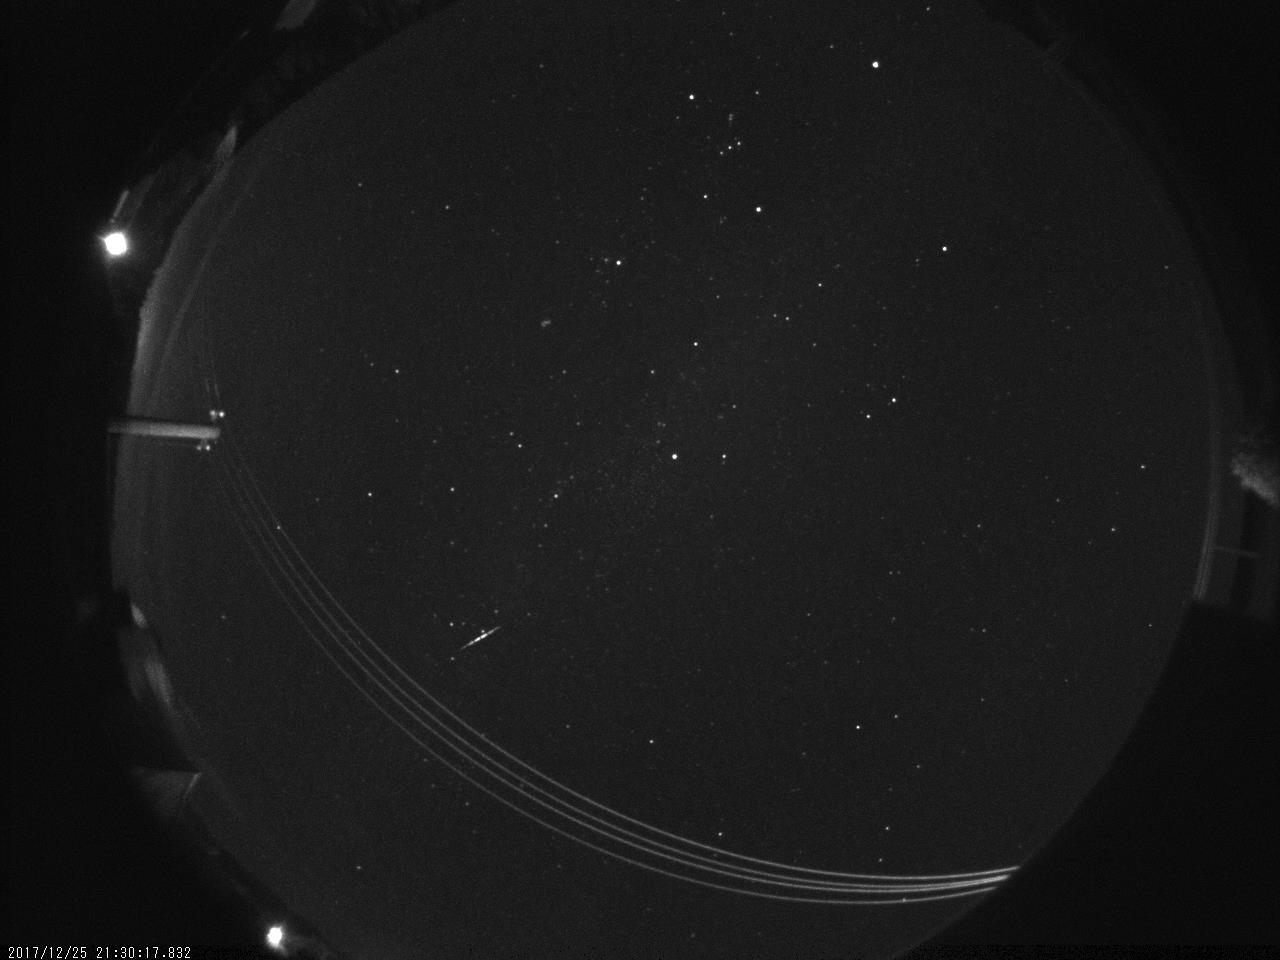meteor: (420, 611, 545, 664)
